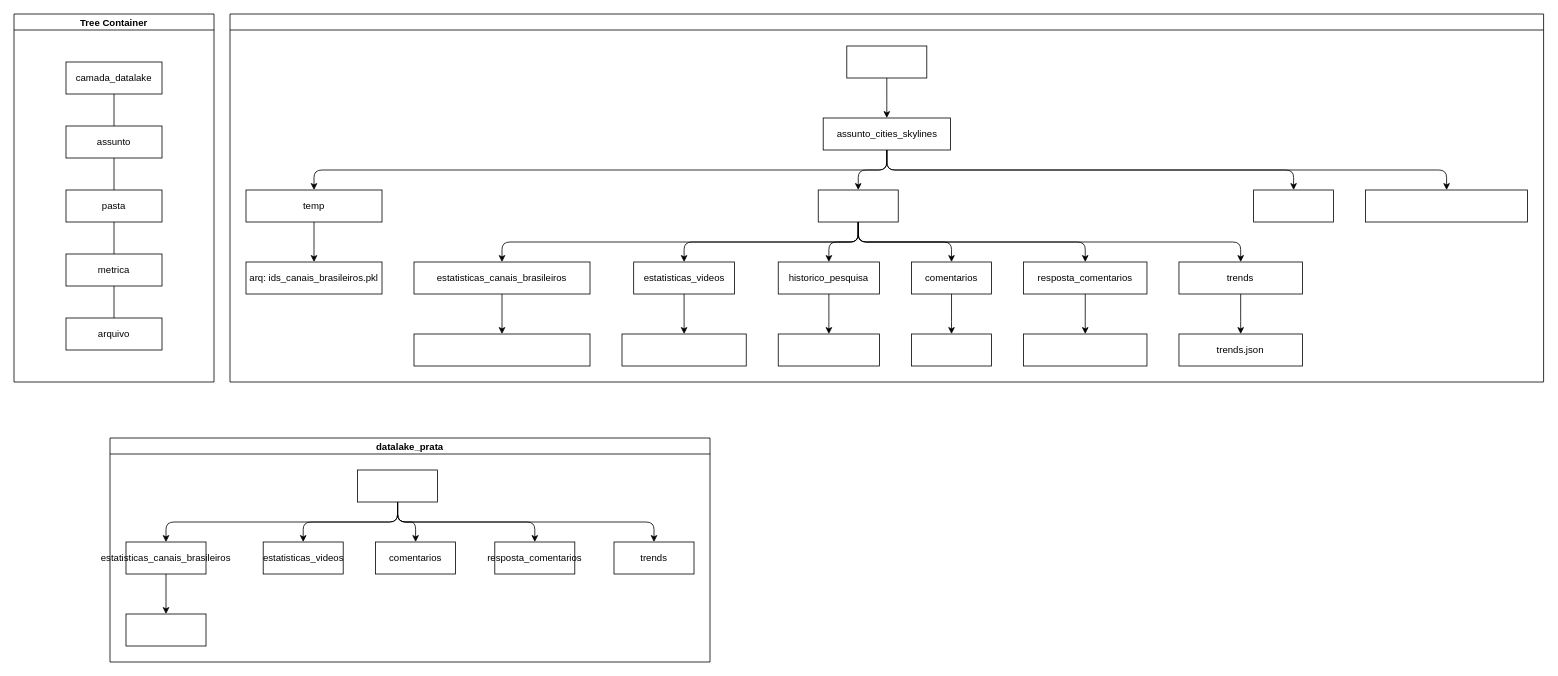
This 1558x676 diagram has some shape labels left out. The box of each missing label's shape, as (x1, y1, x2, y2) in pixels:
arq:estatisticas_canais_brasileiros.json: (413, 333, 590, 366)
arq:estatisticas_videos.json: (621, 333, 746, 366)
arq:req_historico.json: (777, 333, 880, 366)
bronze: (846, 45, 927, 78)
comentarios.json: (911, 333, 992, 366)
datalake: (229, 13, 1544, 382)
extracao_data: (817, 189, 898, 222)
id_resposta_comentarios.json: (1365, 189, 1528, 222)
id_videos.pkl: (1253, 189, 1334, 222)
prata: (357, 469, 438, 502)
resposta_comentarios.json: (1023, 333, 1147, 366)
